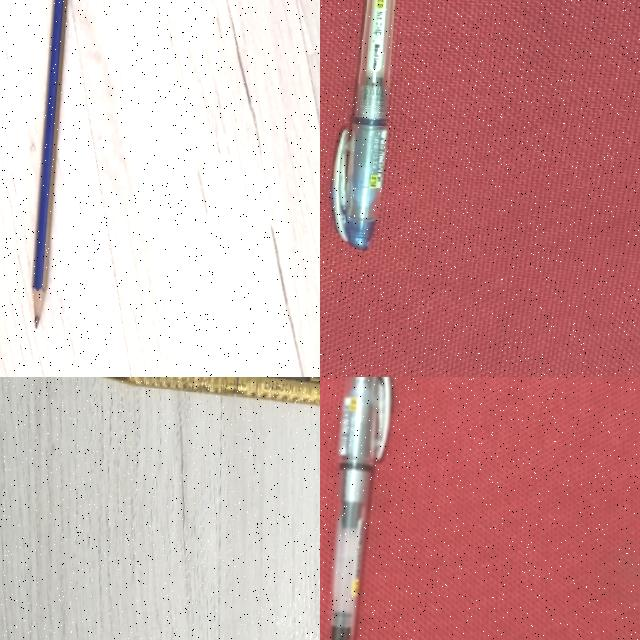pen: (329, 377, 393, 640), (332, 0, 395, 249)
pencil: (32, 0, 66, 327)
signature pen: (104, 377, 319, 405)
